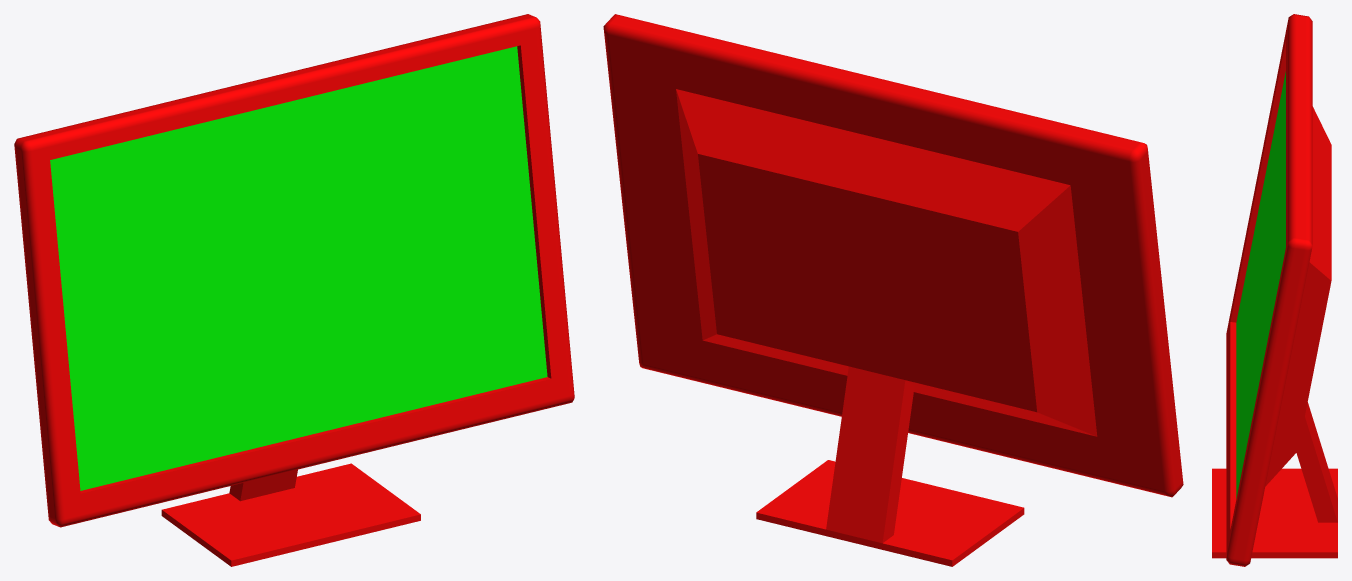
Rendered from Monitor_Desktop.FBX.
3 views of the same model, side by side, from view 1: azimuth 30°, elevation 25°; view 2: azimuth 150°, elevation 25°; view 3: azimuth 270°, elevation 25° (orthographic). The views are drawn at different scales.
Parts seen in each view (by area): view 1: Monitor; view 2: Monitor; view 3: Monitor.
Boxes of the visible parts, x1,y1,x2,y2 form: Monitor: (14,14,574,566); Monitor: (603,14,1183,566); Monitor: (1212,14,1337,566).
Bounding box in the file's own units: 28.67 × 22.81 × 6.67.
